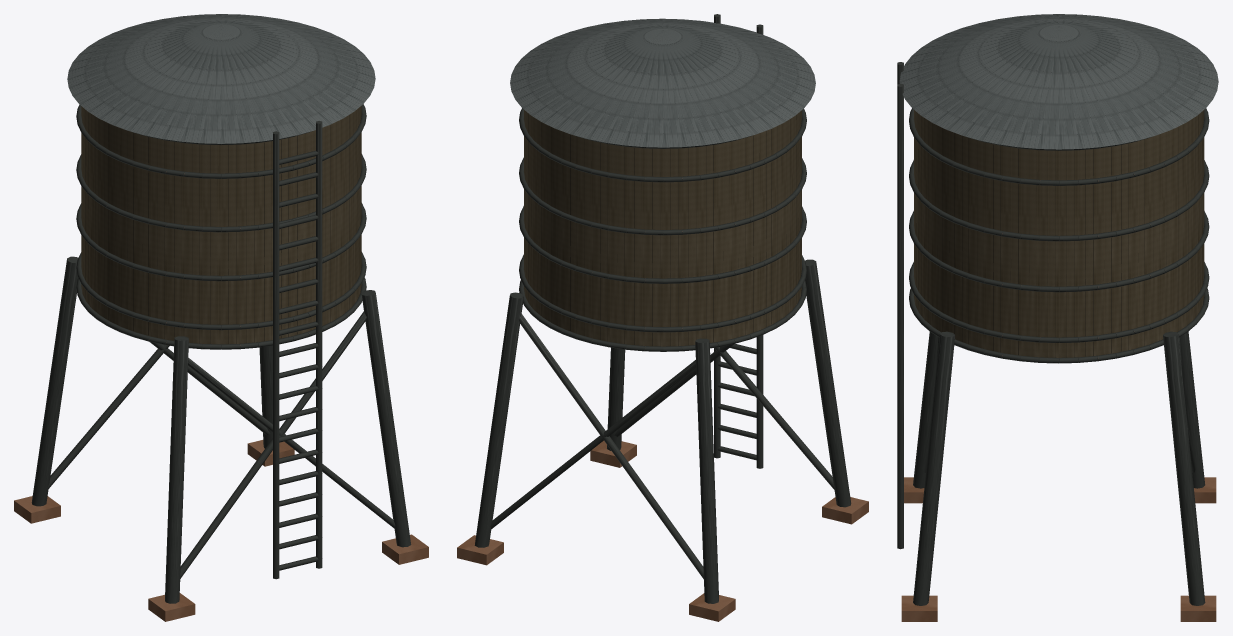
The model's file is city-water-tower.glb.
3 renders of one model, left to right at view 1: azimuth 30°, elevation 25°; view 2: azimuth 150°, elevation 25°; view 3: azimuth 270°, elevation 25°, orthographic. The views are drawn at different scales.
Parts seen in each view (by area): view 1: city-water-tower.001; view 2: city-water-tower.001; view 3: city-water-tower.001.
Boxes of the visible parts, <box> form: city-water-tower.001: <box>14,14,428,621</box>; city-water-tower.001: <box>457,14,868,621</box>; city-water-tower.001: <box>897,14,1218,621</box>.
Size of the model in its own units: 3.49 by 6.36 by 3.5.
1 material, 1 textured.
